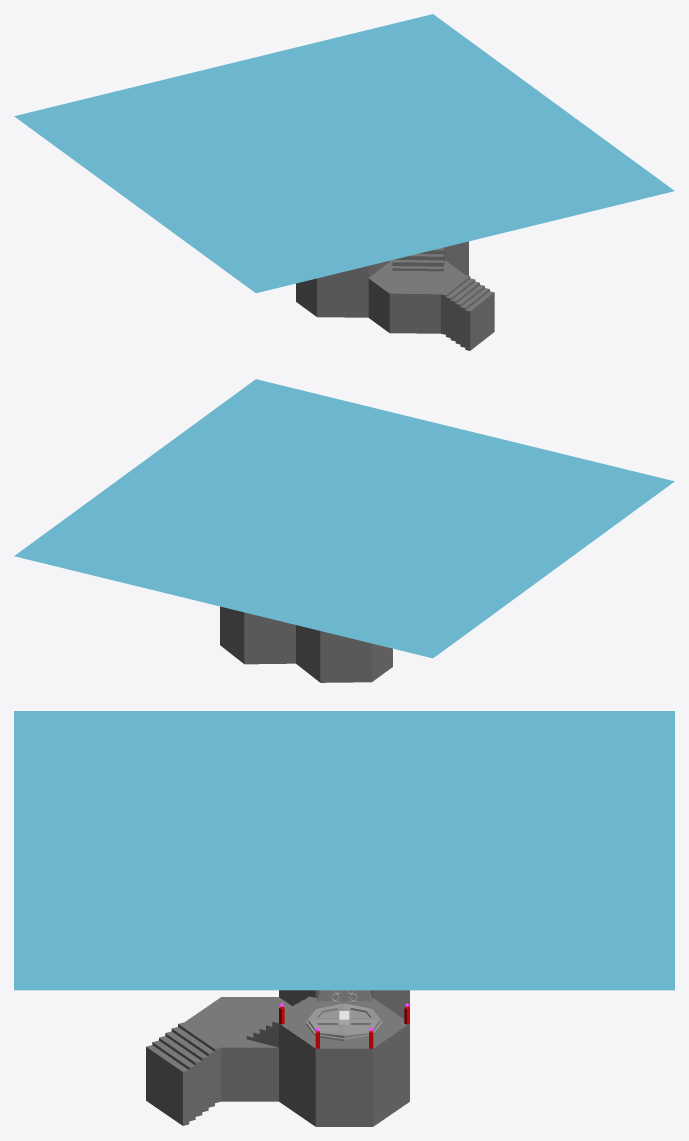
File: altar.glb
3 views of the same model, one above another, from view 1: azimuth 30°, elevation 25°; view 2: azimuth 150°, elevation 25°; view 3: azimuth 270°, elevation 25° (orthographic). The views are drawn at different scales.
Parts seen in each view (by area): view 1: Plane, Cube; view 2: Plane, Cube; view 3: Plane, Cube, Cube.005, Cube.002.
Part boxes in pixels (x1,y1,x2,y2): Plane: [14, 14, 674, 293]; Cube: [296, 241, 494, 350]; Plane: [14, 379, 674, 658]; Cube: [220, 606, 392, 682]; Plane: [14, 711, 674, 990]; Cube: [146, 990, 409, 1126]; Cube.005: [306, 1003, 382, 1041]; Cube.002: [317, 990, 371, 1002].
Size of the model in its own units: 8.77 by 3.14 by 8.77.
